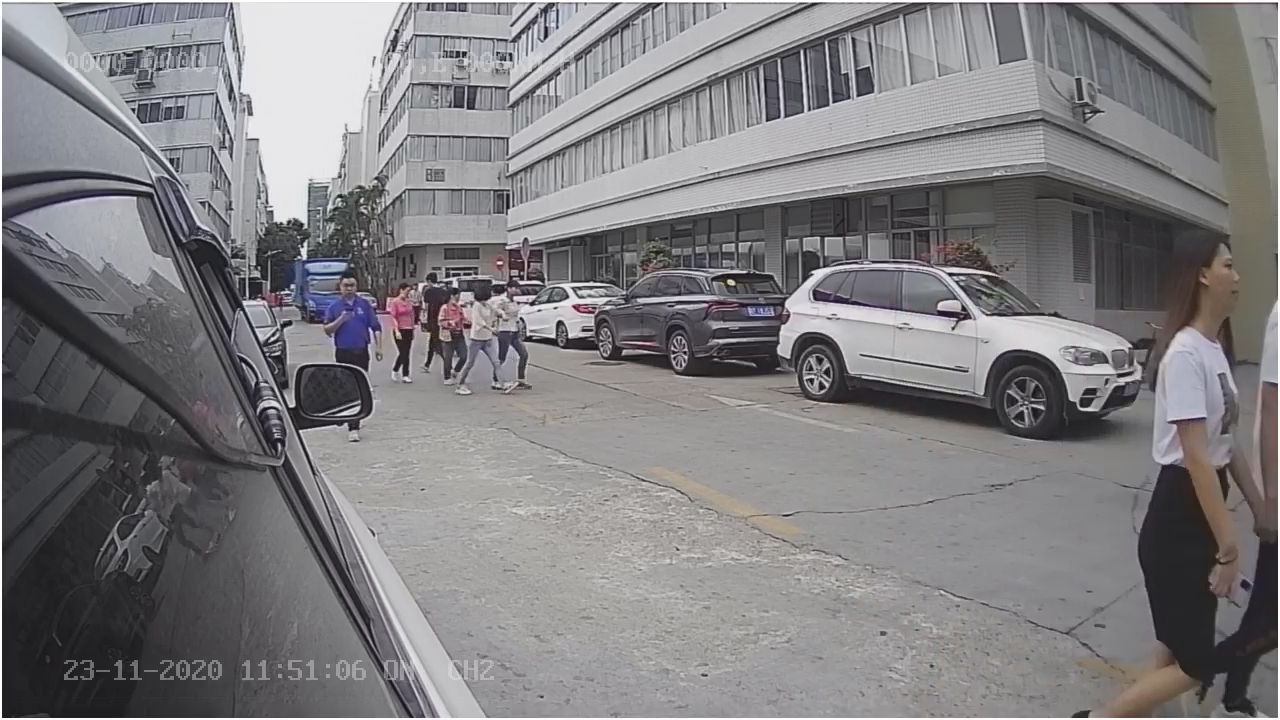person: (1145, 224, 1241, 529)
